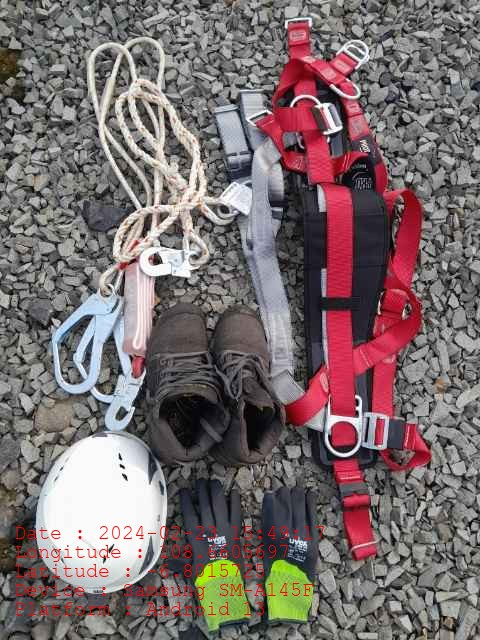SEPATU: (150, 304, 275, 460)
TAMBANG_SLING: (54, 43, 152, 417)
